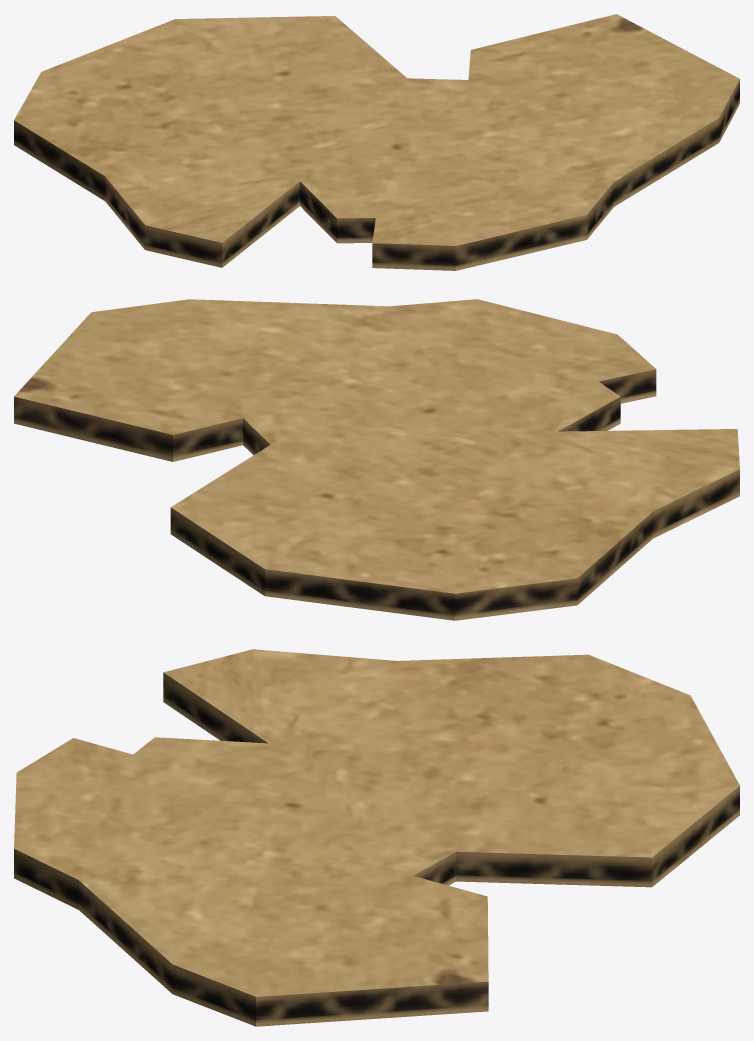
File: SM_CardboardGoodBirdSleep.fbx
The picture shows the model from 3 angles, top to bottom: view 1: azimuth 30°, elevation 25°; view 2: azimuth 150°, elevation 25°; view 3: azimuth 270°, elevation 25°; orthographic projection. The views are drawn at different scales.
Visible parts, largest first — view 1: Mesh_CardboardGudBurdSleep; view 2: Mesh_CardboardGudBurdSleep; view 3: Mesh_CardboardGudBurdSleep.
Boxes of the visible parts, bbox=[...] form: Mesh_CardboardGudBurdSleep: bbox=[14, 14, 739, 270]; Mesh_CardboardGudBurdSleep: bbox=[14, 299, 739, 620]; Mesh_CardboardGudBurdSleep: bbox=[14, 649, 739, 1026].
Bounding box in the file's own units: 61.21 × 2.53 × 54.01.
